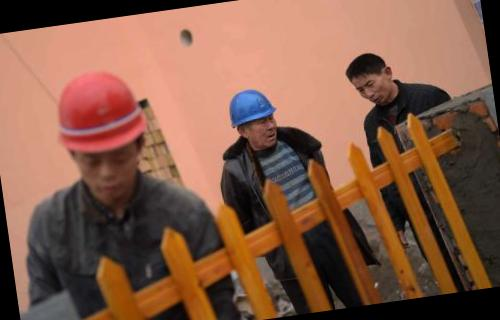no_helmet: (334, 46, 402, 110)
